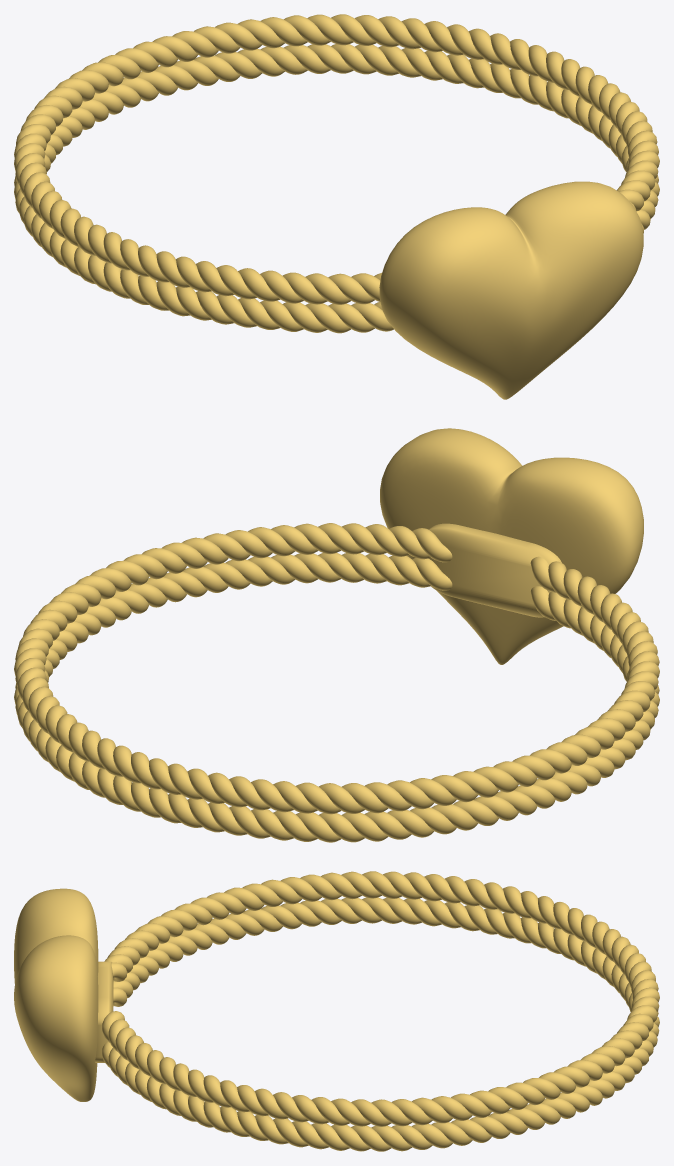
The picture shows the model from 3 angles, top to bottom: view 1: azimuth 30°, elevation 25°; view 2: azimuth 150°, elevation 25°; view 3: azimuth 270°, elevation 25°; orthographic projection. The views are drawn at different scales.
Visible parts, largest first — view 1: Ring; view 2: Ring; view 3: Ring.
Boxes of the visible parts, <box> form: Ring: <box>14,14,659,399</box>; Ring: <box>14,428,659,842</box>; Ring: <box>14,871,659,1151</box>.
Size of the model in its own units: 20.99 by 7.36 by 23.89.
